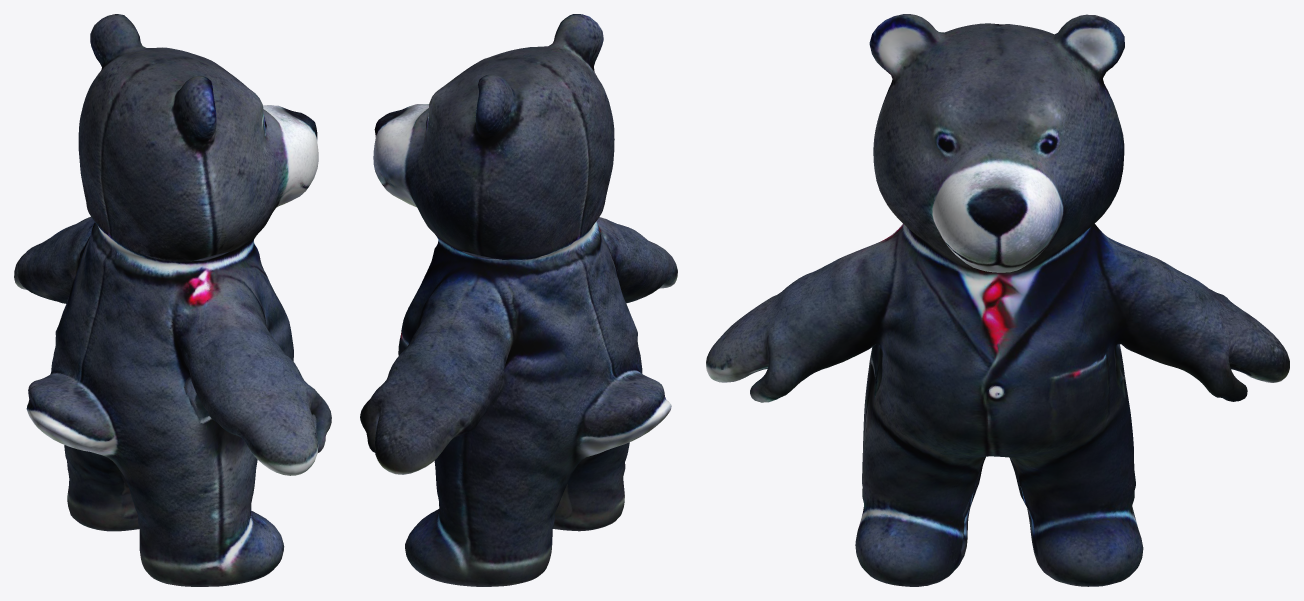
The model's file is grey_bear_in_formal_refined_2.glb.
The picture shows the model from 3 angles, left to right: view 1: azimuth 30°, elevation 25°; view 2: azimuth 150°, elevation 25°; view 3: azimuth 270°, elevation 25°; orthographic projection. The views are drawn at different scales.
Visible parts, largest first — view 1: mesh; view 2: mesh; view 3: mesh.
Boxes of the visible parts, x1=… form: mesh: x1=14, y1=14, x2=331, y2=586; mesh: x1=360, y1=14, x2=677, y2=586; mesh: x1=706, y1=14, x2=1289, y2=586.
Size of the model in its own units: 0.5878 by 0.9997 by 0.9729.
Materials: 1 (1 with a texture image).
